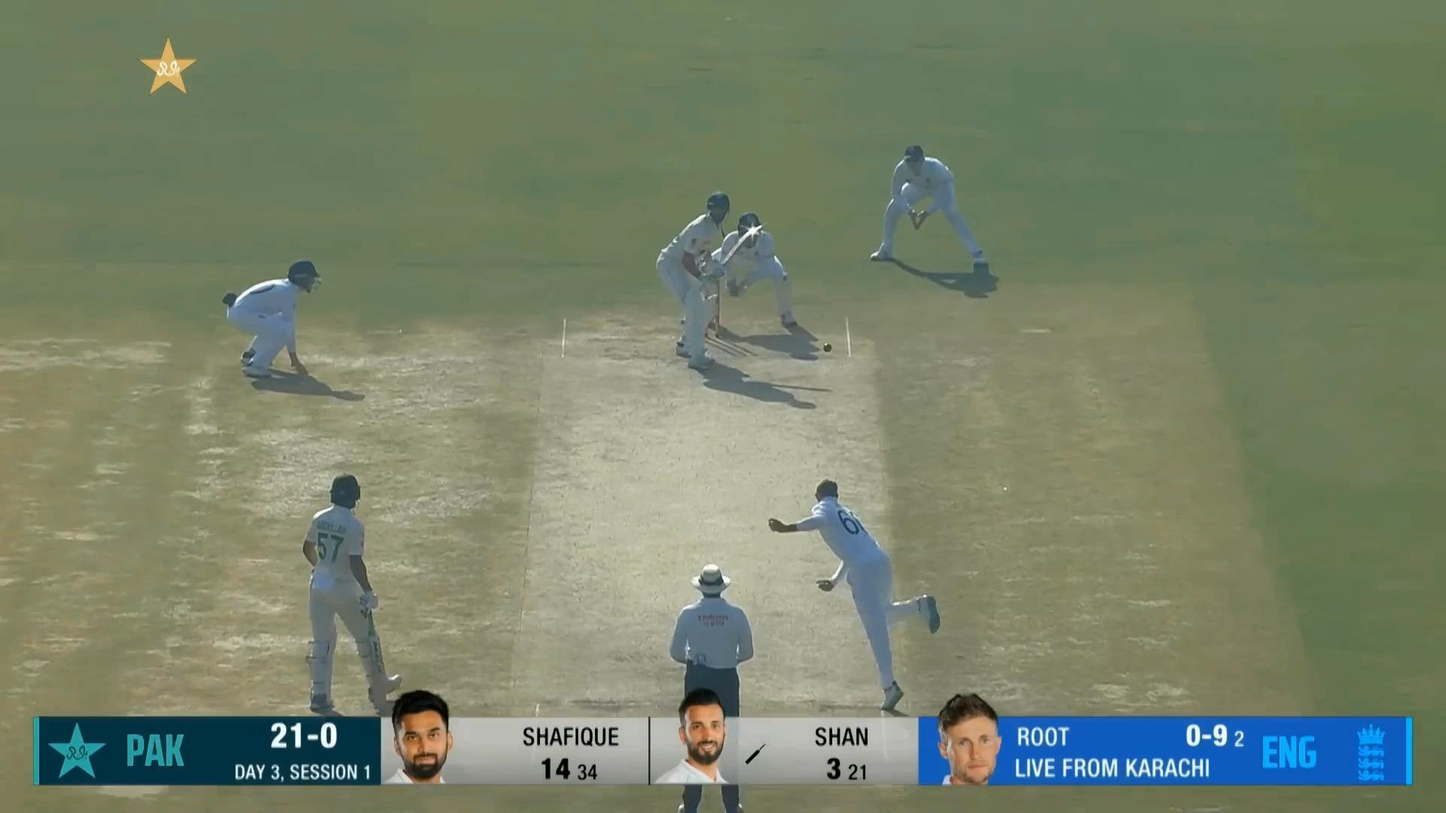BM 1: (655, 191, 764, 368)
BO: (766, 476, 943, 711)
